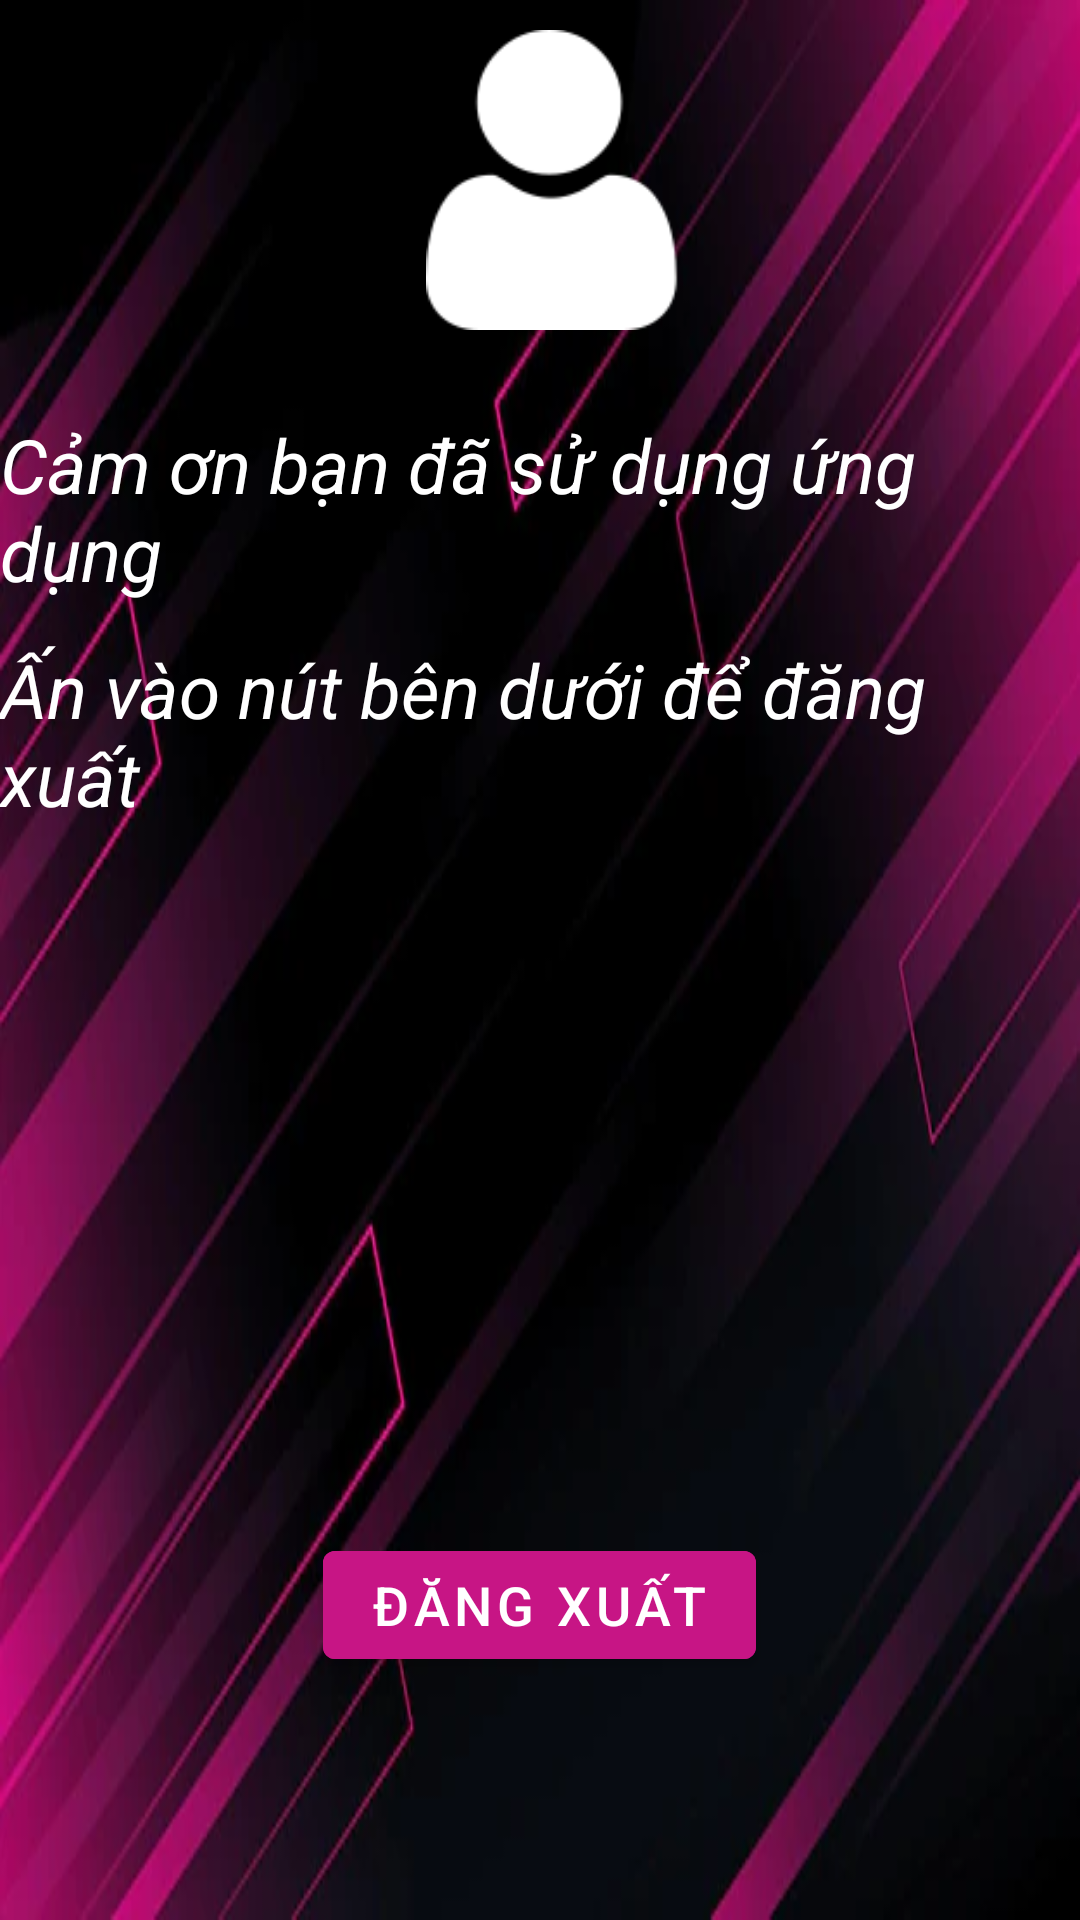

Icons on this 1080x1920 Android screen, each with the point to tap as (x,y):
useredit: (588,180)
